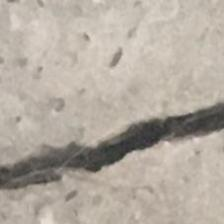Crack: (0, 103, 224, 199)
